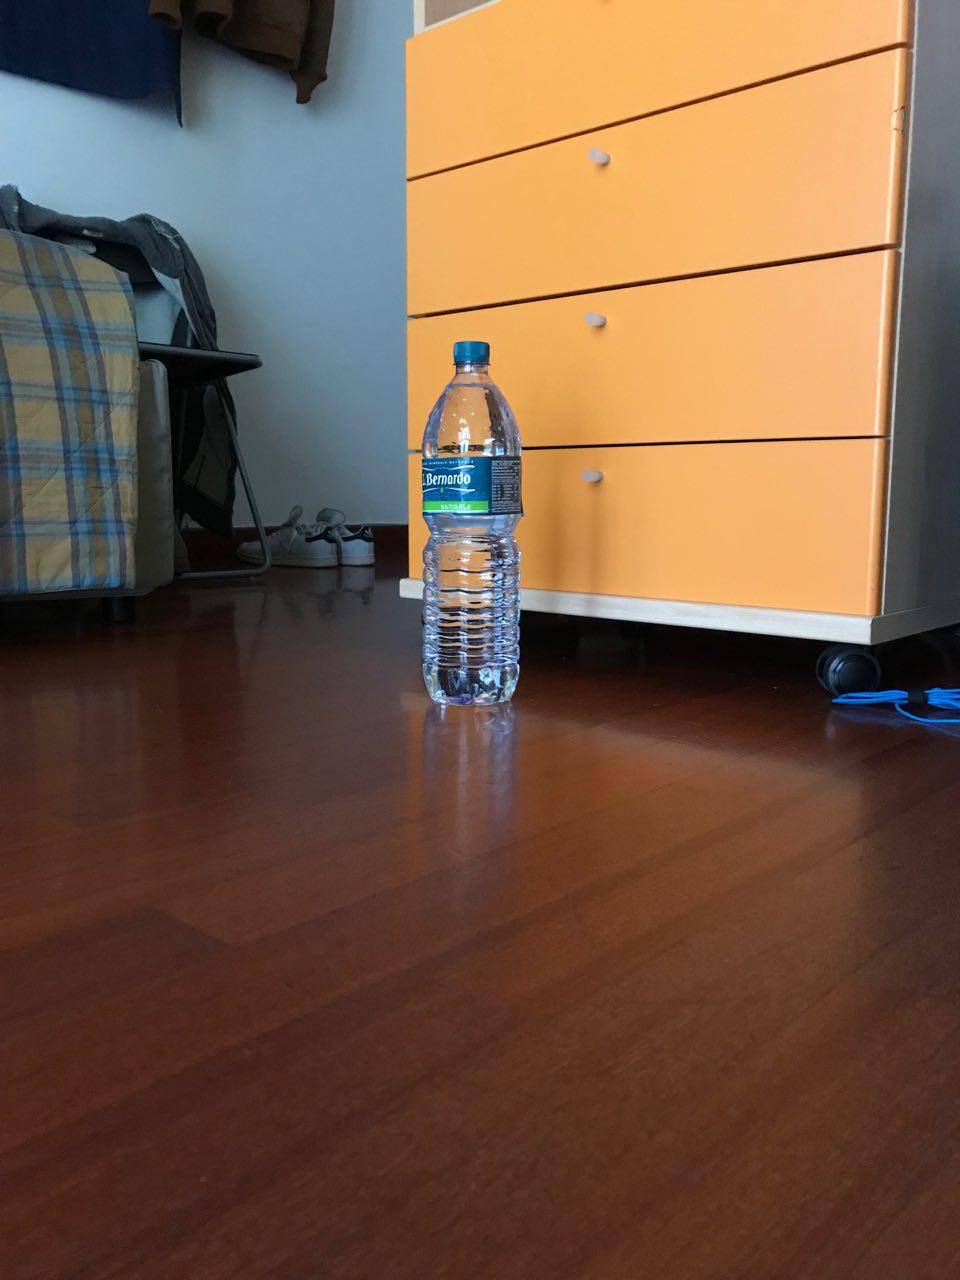san_bernardo: (419, 341, 524, 708)
